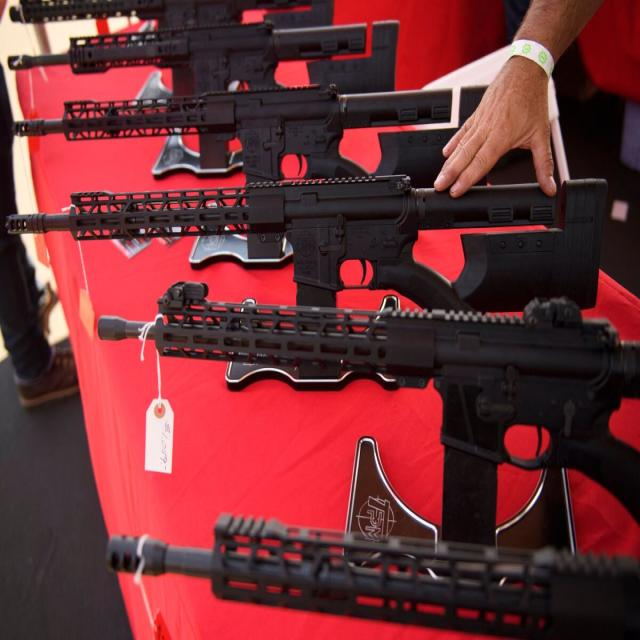Rifle: (97, 282, 640, 549), (6, 175, 640, 342), (17, 85, 487, 189), (12, 22, 399, 97)
